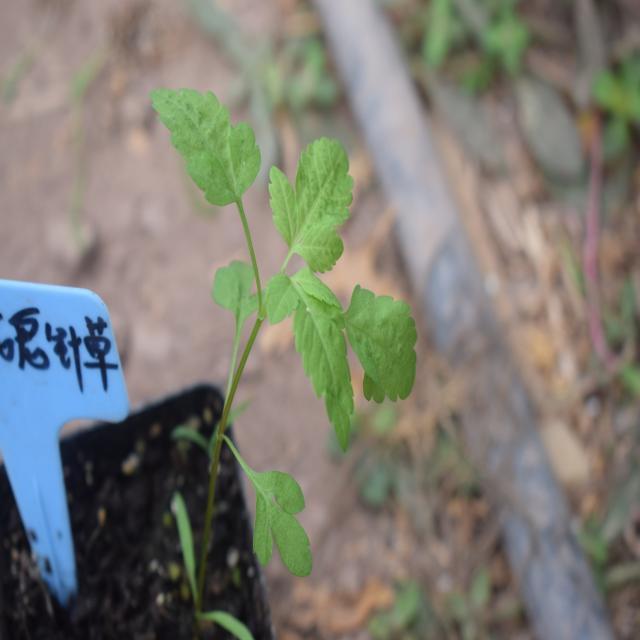Bidens pilosa: (161, 80, 427, 555)
